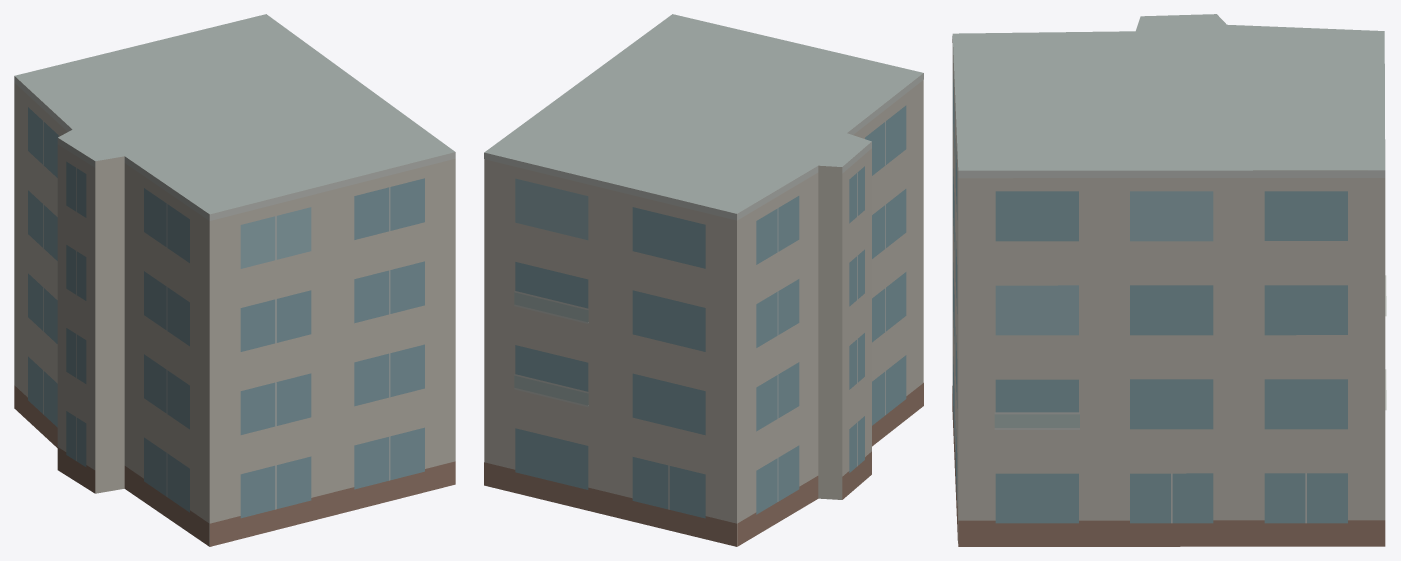
The model's file is survey-upis-32706663.glb.
3 renders of one model, left to right at view 1: azimuth 30°, elevation 25°; view 2: azimuth 150°, elevation 25°; view 3: azimuth 270°, elevation 25°, orthographic. The views are drawn at different scales.
Parts seen in each view (by area): view 1: survey-upis-32706663.tmp; view 2: survey-upis-32706663.tmp; view 3: survey-upis-32706663.tmp.
Part boxes in pixels (x1=…): survey-upis-32706663.tmp: x1=14, y1=14, x2=455, y2=546; survey-upis-32706663.tmp: x1=484, y1=14, x2=923, y2=546; survey-upis-32706663.tmp: x1=952, y1=14, x2=1386, y2=546.
Bounding box in the file's own units: 10.94 × 12.2 × 12.76.
